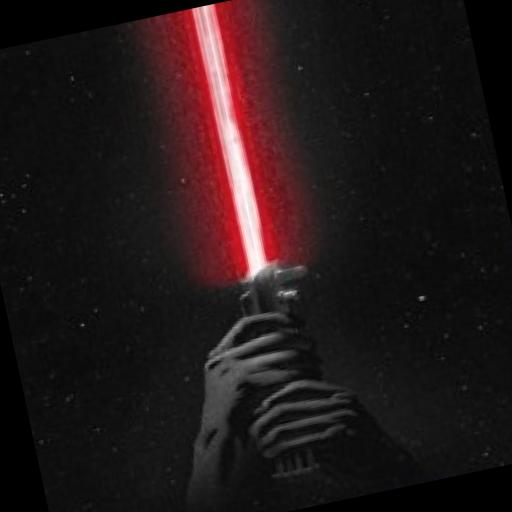sith saber: (174, 0, 332, 479)
